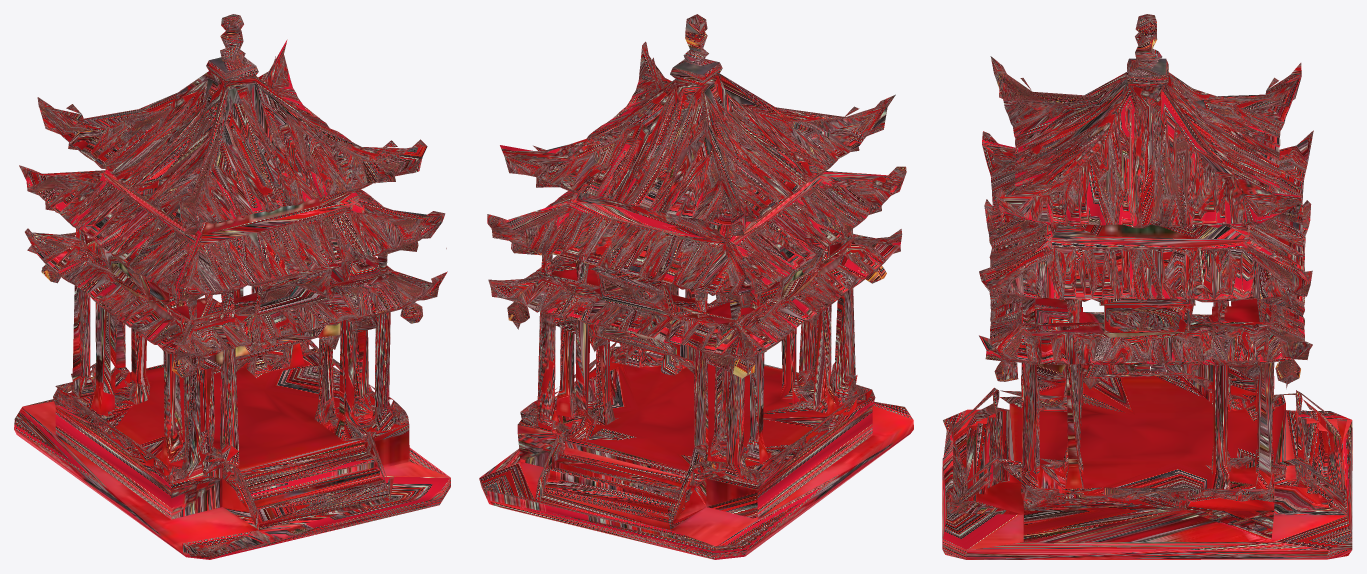
The model's file is bq_library_pagoda.lod.glb.
The picture shows the model from 3 angles, left to right: view 1: azimuth 30°, elevation 25°; view 2: azimuth 150°, elevation 25°; view 3: azimuth 270°, elevation 25°; orthographic projection. The views are drawn at different scales.
Size of the model in its own units: 1.2 by 1.89 by 1.46.
1 material, 1 textured.
